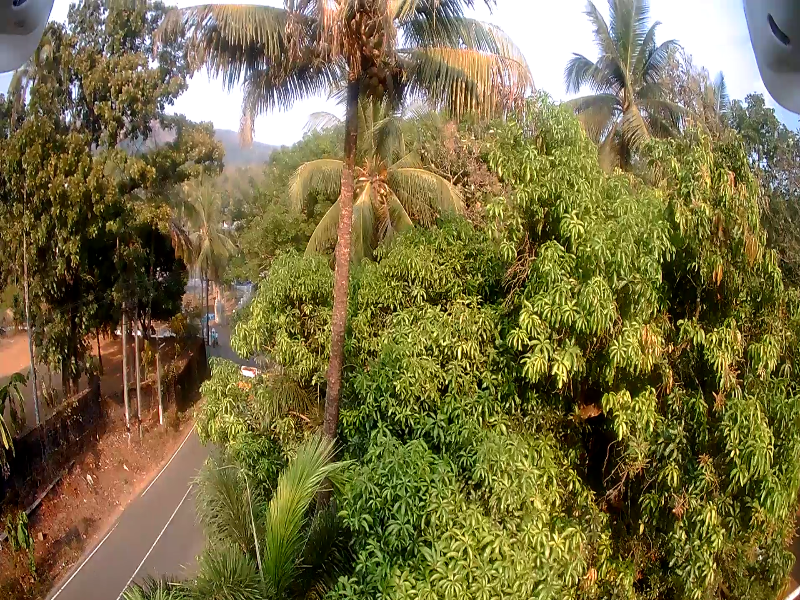coconut: (375, 84, 384, 95), (368, 66, 376, 75), (371, 77, 376, 87)
